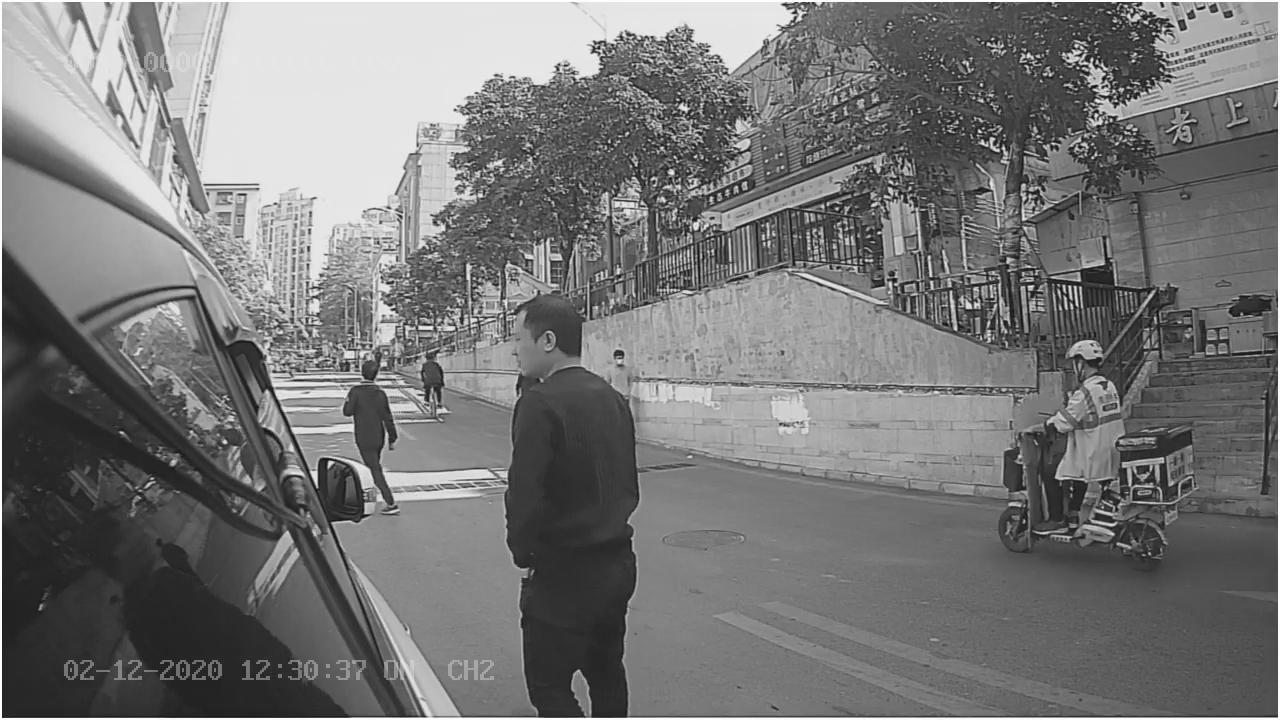person: (503, 294, 642, 491)
